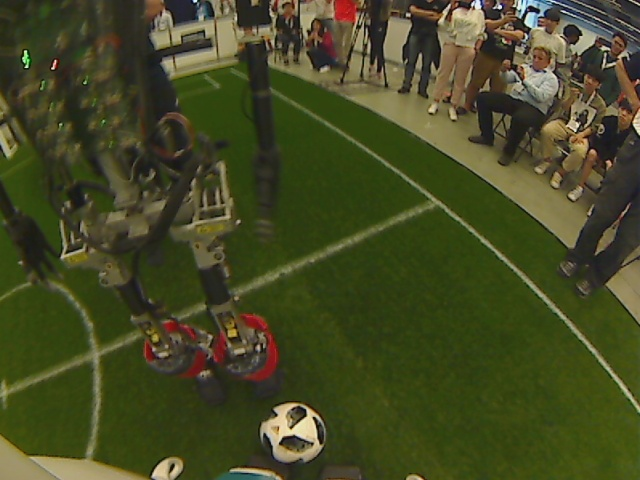ball: (257, 401, 328, 465)
